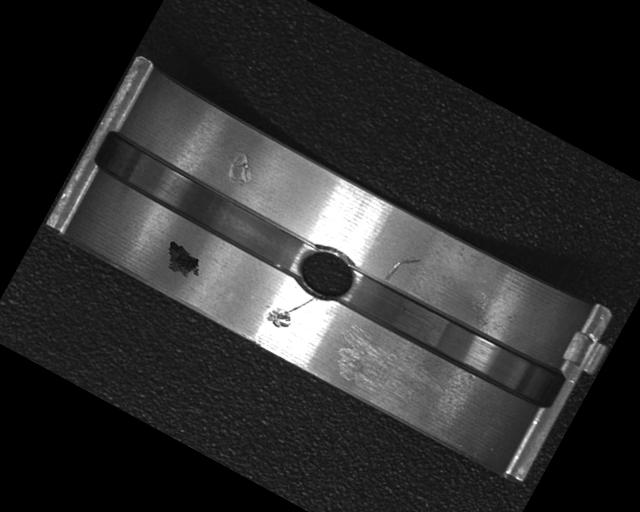blot: (158, 238, 208, 282)
bruise: (220, 145, 264, 191), (262, 301, 298, 333)
gap: (340, 262, 567, 415), (90, 127, 316, 280)
hole: (286, 234, 366, 314)
nick: (383, 248, 422, 290), (282, 286, 318, 324)
scratch: (328, 320, 454, 423)
